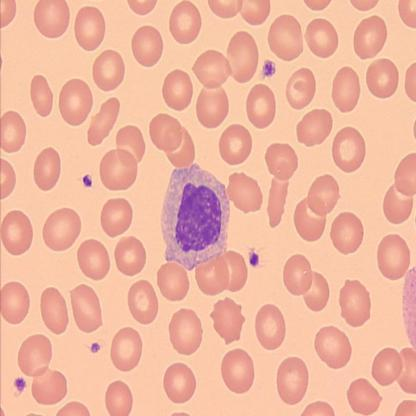Metamyelocyte: (160, 158, 234, 272)
